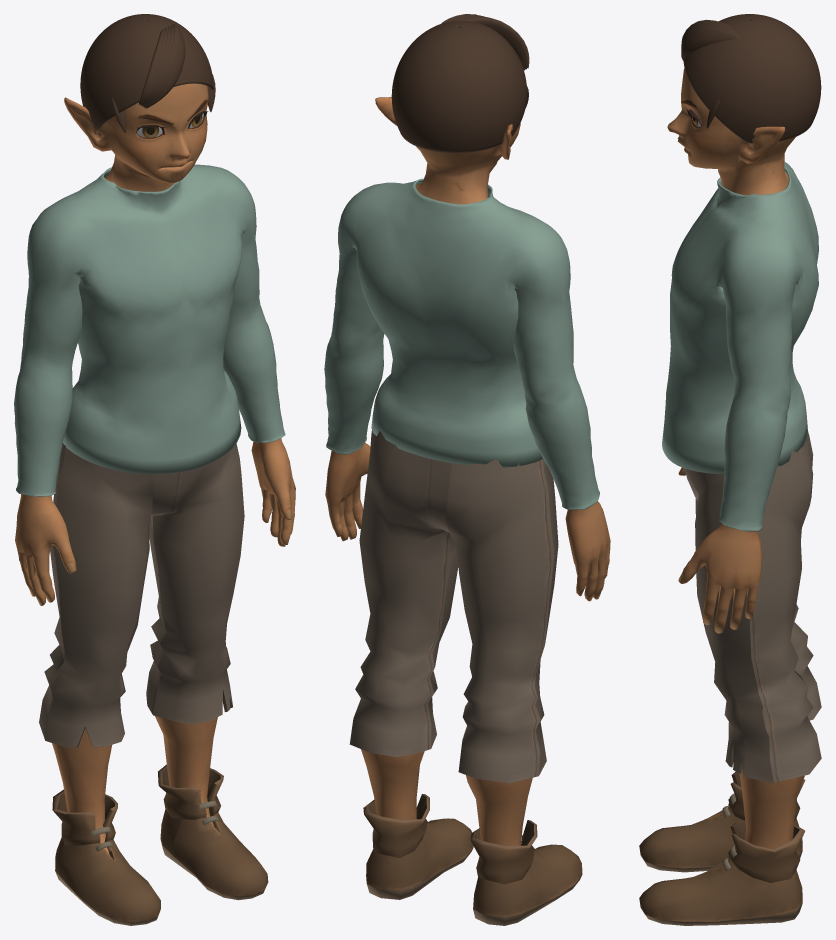
File: boy-tan.glb
The picture shows the model from 3 angles, left to right: view 1: azimuth 30°, elevation 25°; view 2: azimuth 150°, elevation 25°; view 3: azimuth 270°, elevation 25°; orthographic projection.
Visible parts, largest first — view 1: boy • Plain shirt • neutral sage, boy • Pant_043__Mt_Lower_043, boy • continuous skin, Hair • short • fitted crown, Hair • short • side sweep 0, Hair • short • side sweep 4; view 2: boy • Pant_043__Mt_Lower_043, boy • Plain shirt • neutral sage, boy • continuous skin, Hair • short • fitted crown, Hair • short • side sweep 4; view 3: boy • Plain shirt • neutral sage, boy • Pant_043__Mt_Lower_043, boy • continuous skin, Hair • short • fitted crown, Hair • short • side sweep 0.
Part boxes in pixels (x1,y1,x2,y2): boy • Plain shirt • neutral sage: (14, 164, 285, 496); boy • Pant_043__Mt_Lower_043: (39, 443, 268, 925); boy • continuous skin: (15, 83, 295, 854); Hair • short • fitted crown: (80, 14, 213, 129); Hair • short • side sweep 0: (145, 24, 185, 108); Hair • short • side sweep 4: (139, 28, 165, 104); boy • Pant_043__Mt_Lower_043: (349, 429, 582, 925); boy • Plain shirt • neutral sage: (324, 178, 599, 509); boy • continuous skin: (325, 97, 610, 845); Hair • short • fitted crown: (391, 21, 526, 153); Hair • short • side sweep 4: (461, 17, 529, 68); boy • Plain shirt • neutral sage: (662, 162, 818, 531); boy • Pant_043__Mt_Lower_043: (639, 431, 821, 925); boy • continuous skin: (667, 68, 804, 849); Hair • short • fitted crown: (683, 14, 821, 143); Hair • short • side sweep 0: (681, 27, 739, 61).
Size of the model in its own units: 0.5778 by 1.76 by 0.3363.
Materials: 11 (8 with a texture image).
